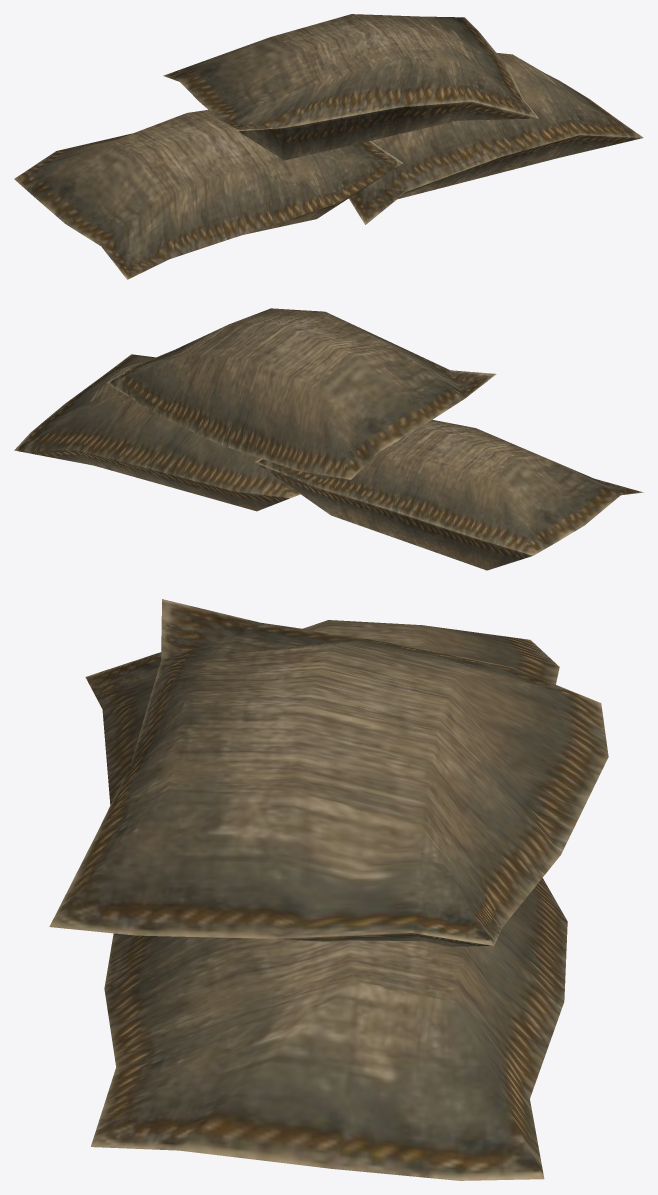
The model's file is stack3.fbx.
The picture shows the model from 3 angles, top to bottom: view 1: azimuth 30°, elevation 25°; view 2: azimuth 150°, elevation 25°; view 3: azimuth 270°, elevation 25°; orthographic projection. The views are drawn at different scales.
Parts seen in each view (by area): view 1: SackMesh6, SackMesh7, SackMesh8, SackMesh5, SackMesh4, SackMesh3; view 2: SackMesh7, SackMesh6, SackMesh8, SackMesh3, SackMesh4; view 3: SackMesh7, SackMesh8, SackMesh6, SackMesh5.
Boxes of the visible parts, box(x1,y1,x2,y2) form: SackMesh6: box(14, 110, 402, 279); SackMesh7: box(163, 14, 538, 131); SackMesh8: box(351, 52, 643, 223); SackMesh5: box(165, 76, 537, 160); SackMesh4: box(349, 135, 642, 224); SackMesh3: box(103, 167, 396, 275); SackMesh7: box(106, 308, 496, 479); SackMesh6: box(255, 419, 643, 555); SackMesh8: box(14, 354, 300, 498); SackMesh3: box(316, 479, 640, 570); SackMesh4: box(14, 449, 289, 511); SackMesh7: box(49, 599, 608, 945); SackMesh8: box(91, 878, 567, 1180); SackMesh6: box(85, 620, 559, 804); SackMesh5: box(161, 601, 493, 946).
Bounding box in the file's own units: 1025 × 281 × 476.
1 material, 1 textured.
